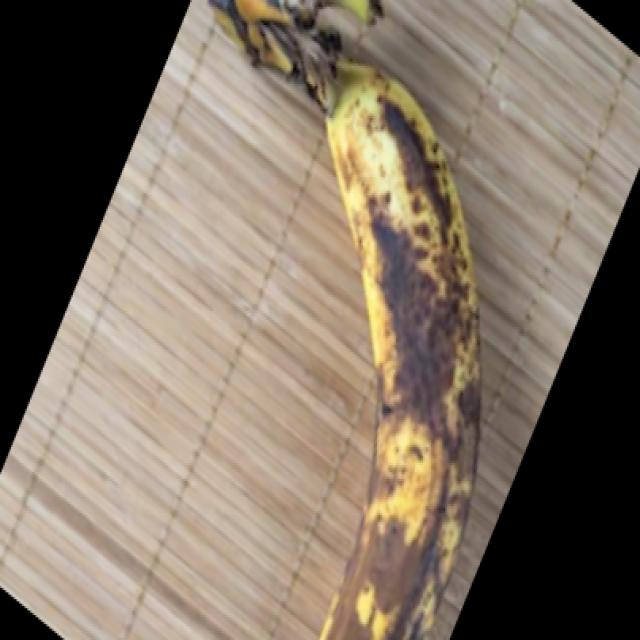overripe: (315, 45, 486, 640)
